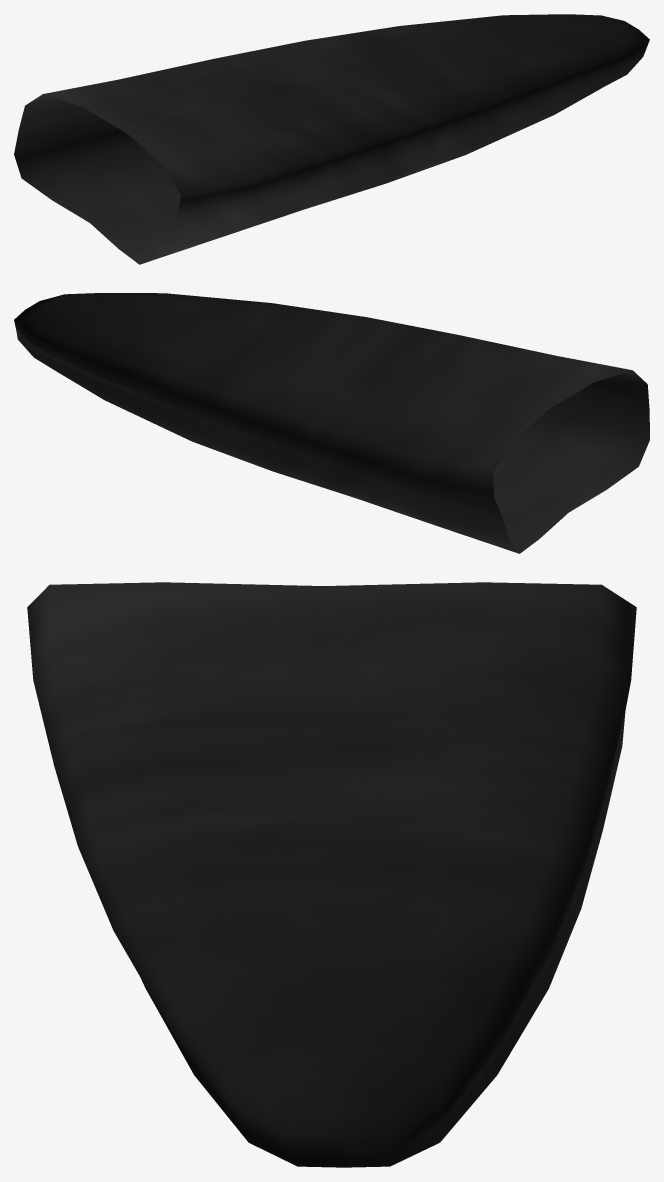
The model's file is AletaIzquierda.obj.
3 views of the same model, one above another, from view 1: azimuth 30°, elevation 25°; view 2: azimuth 150°, elevation 25°; view 3: azimuth 270°, elevation 25° (orthographic). The views are drawn at different scales.
Parts seen in each view (by area): view 1: AletaDerecha001; view 2: AletaDerecha001; view 3: AletaDerecha001.
Boxes of the visible parts, <box> form: AletaDerecha001: <box>14,14,649,264</box>; AletaDerecha001: <box>14,293,649,553</box>; AletaDerecha001: <box>27,582,636,1167</box>.
Size of the model in its own units: 5.54 by 0.8478 by 2.64.
Materials: 1 (1 with a texture image).
